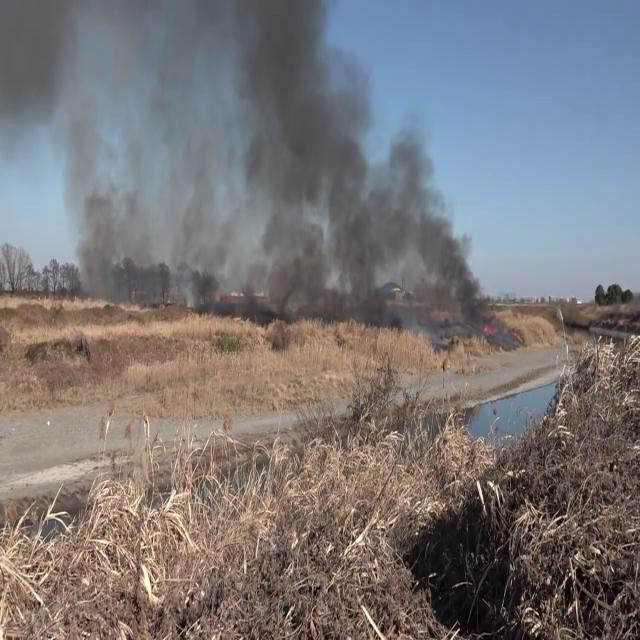Smoke: (174, 0, 496, 320), (0, 0, 200, 322)
